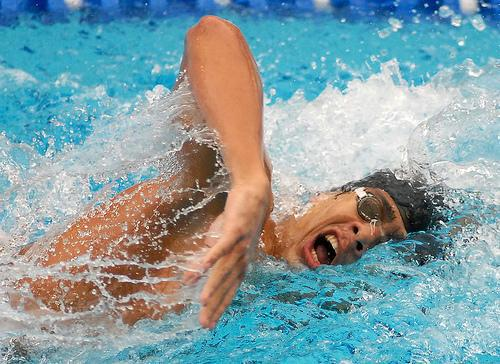human: (0, 13, 454, 353)
